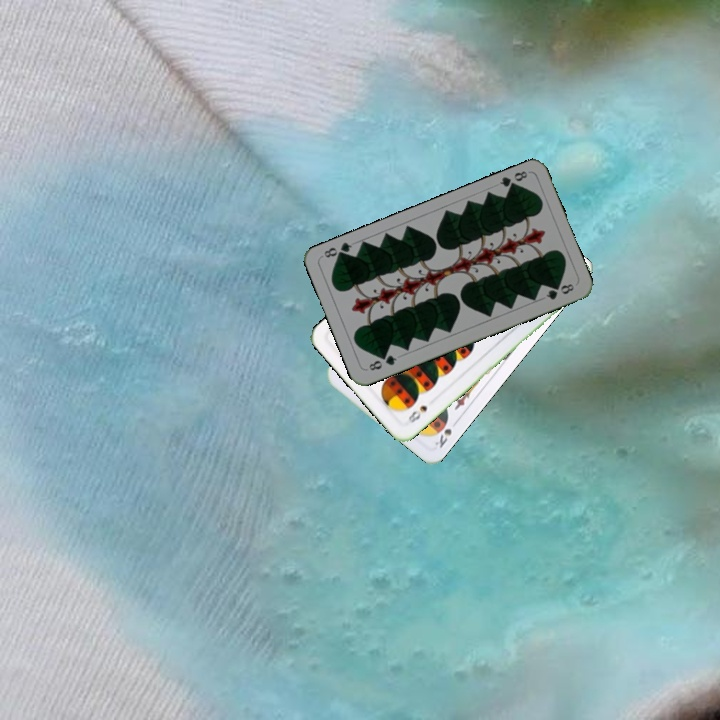G8: (496, 167, 530, 193), (365, 351, 399, 373)
S8: (403, 401, 430, 426)
SK: (431, 424, 454, 451)
